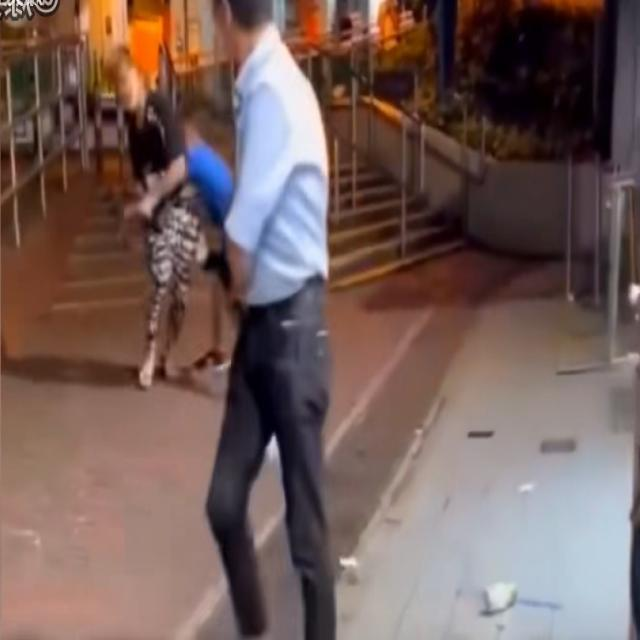fight: (116, 69, 226, 420)
nofight: (183, 0, 358, 640)
